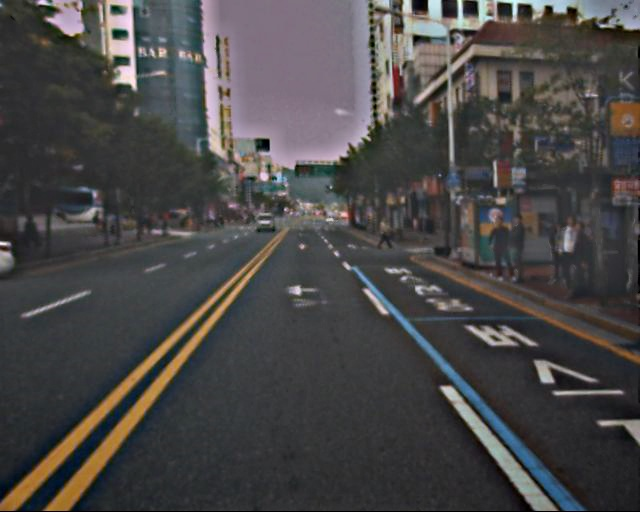person: (545, 215, 590, 302), (500, 215, 535, 289), (487, 218, 516, 282), (378, 215, 394, 253)
